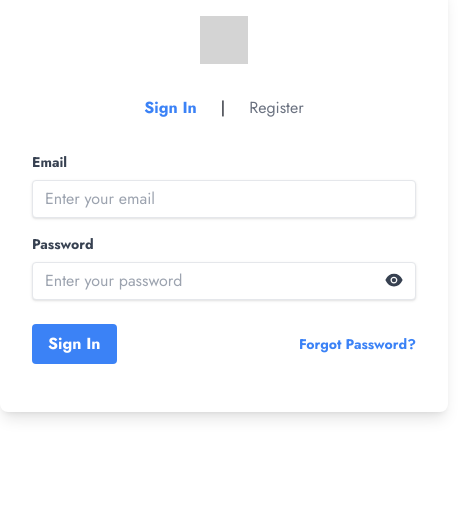
Test: AuthenticationForm › switches to registration form
Click the link "Register" at (276, 108), box [249,96,304,119]
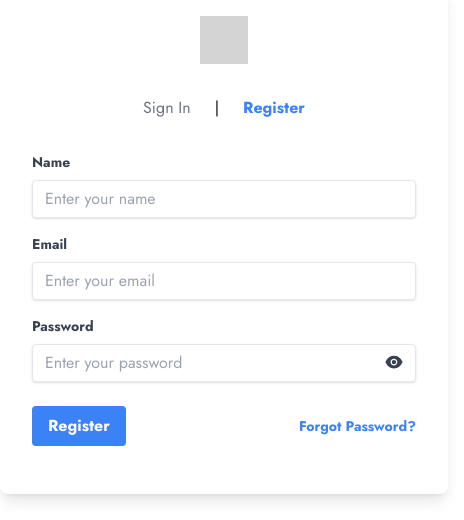
expect the field labelled "Name" is shown: met, box [32,180,416,218]
